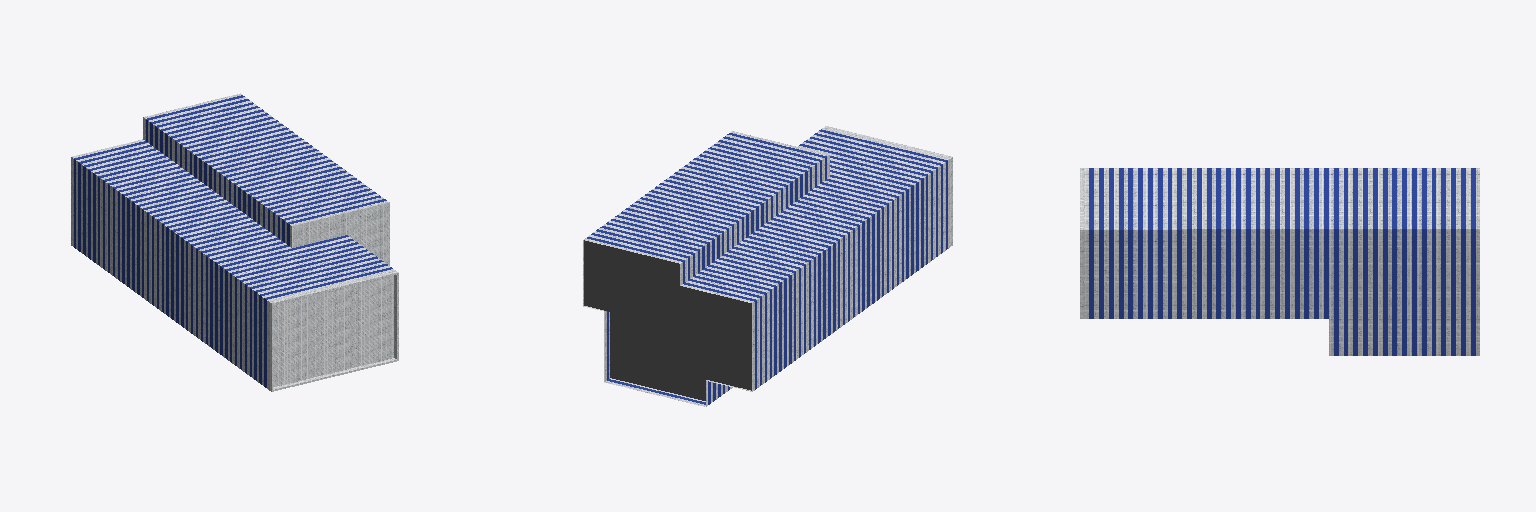
The picture shows the model from 3 angles: view 1: azimuth 30°, elevation 25°; view 2: azimuth 150°, elevation 25°; view 3: azimuth 270°, elevation 25°; orthographic projection.
Parts seen in each view (by area): view 1: glass_01, wall_02, slab_01, wall_01; view 2: wall_02, glass_01, slab_1_01, wall_01, slab_01; view 3: wall_02, glass_01, wall_01, slab_01.
Boxes of the visible parts, <box> form: glass_01: <box>74,95,392,387</box>; wall_02: <box>76,97,395,389</box>; slab_01: <box>269,202,398,391</box>; wall_01: <box>71,93,241,246</box>; wall_02: <box>588,128,949,402</box>; glass_01: <box>587,129,947,404</box>; slab_1_01: <box>584,165,861,400</box>; wall_01: <box>583,238,754,406</box>; slab_01: <box>824,126,952,246</box>; wall_02: <box>1084,168,1470,355</box>; glass_01: <box>1089,168,1475,355</box>; wall_01: <box>1476,168,1479,355</box>; slab_01: <box>1080,168,1083,318</box>.
Size of the model in its own units: 2490 by 1930 by 5105.
3 materials, 1 textured.